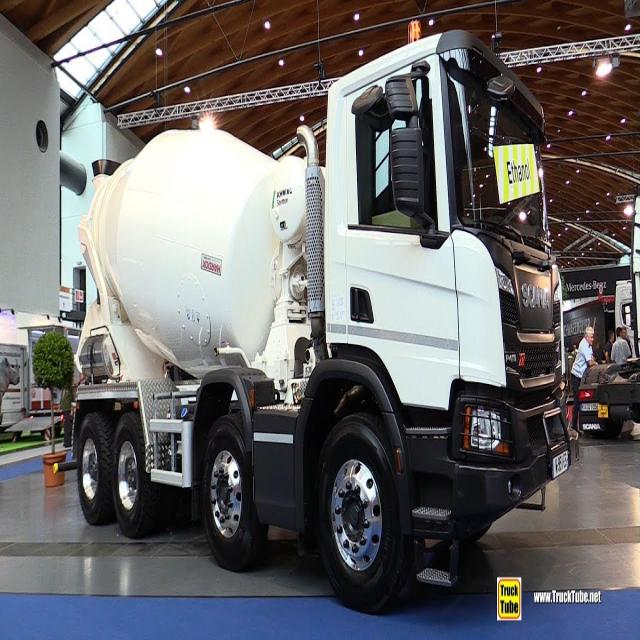Mixer Truck: (71, 31, 580, 614)
